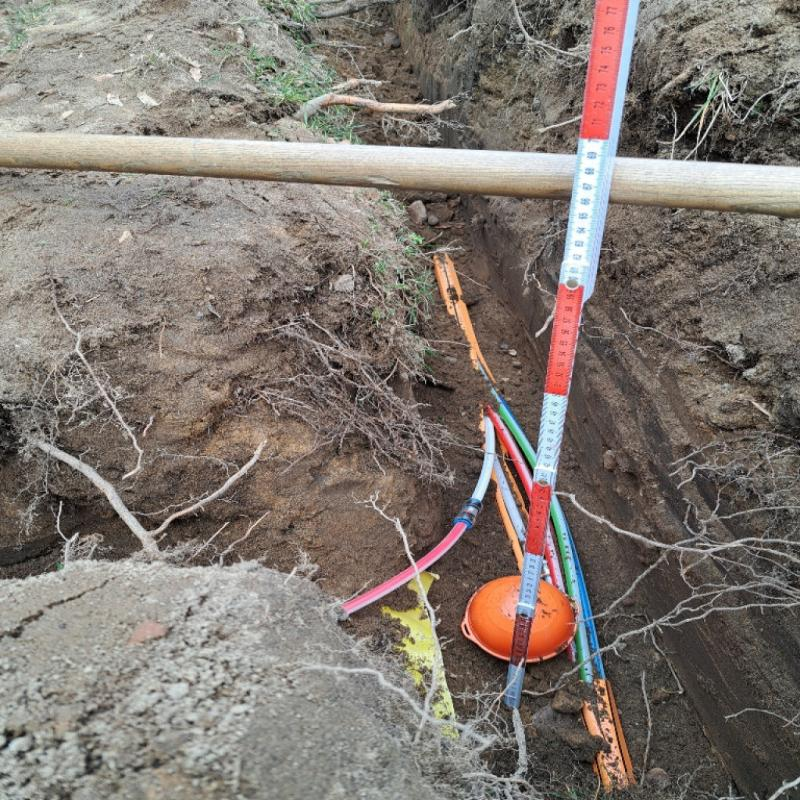Kugelmarker: (463, 574, 579, 664)
Orang-Speednetrohrchen: (558, 535, 634, 791), (437, 256, 525, 444)
